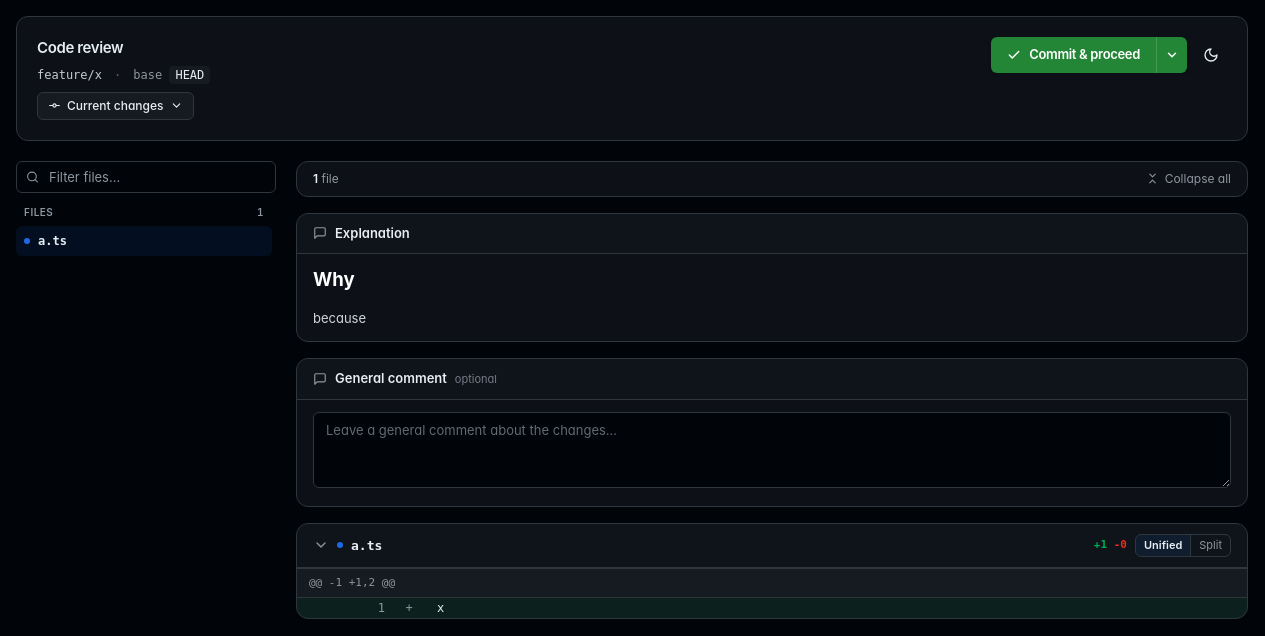
Test: ReviewScreen › shows an error (not the interactive live view) when a checkpoint fails to load
Check: the text "feature/x" is shown, box [37,66,102,84]
What coordinates should you click on to do the following:
click the button "Current changes"
I would click on:
 (115, 106)
Its box is [37,92,194,120].
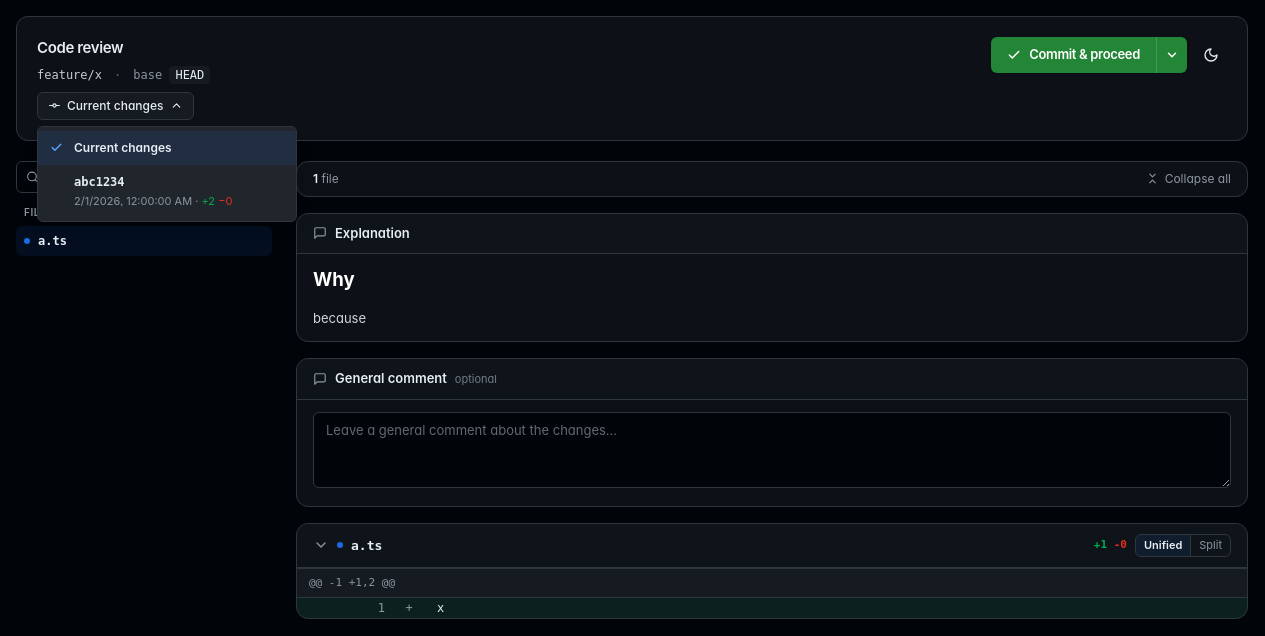
What coordinates should you click on to do the following:
click the menu item "abc1234 2/1/2026, 12:00:00 AM · +2 −0"
I would click on:
 (167, 191)
Its box is [38,164,296,217].
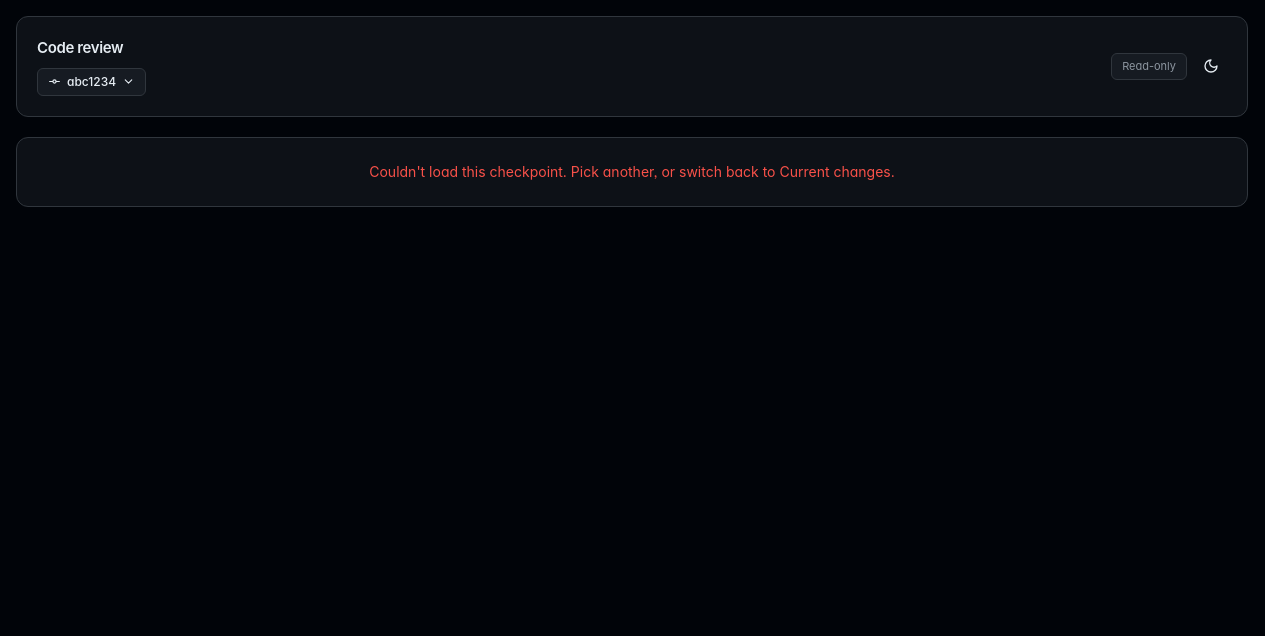
Check: the text "Couldn't load this checkpoint" is shown, box [369,162,895,180]
Check: the button "Commit & proceed" is gone
